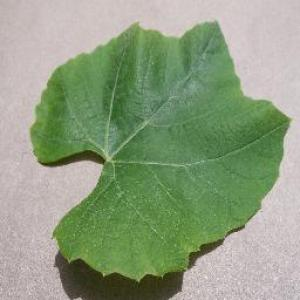Folha: (28, 19, 292, 282)
